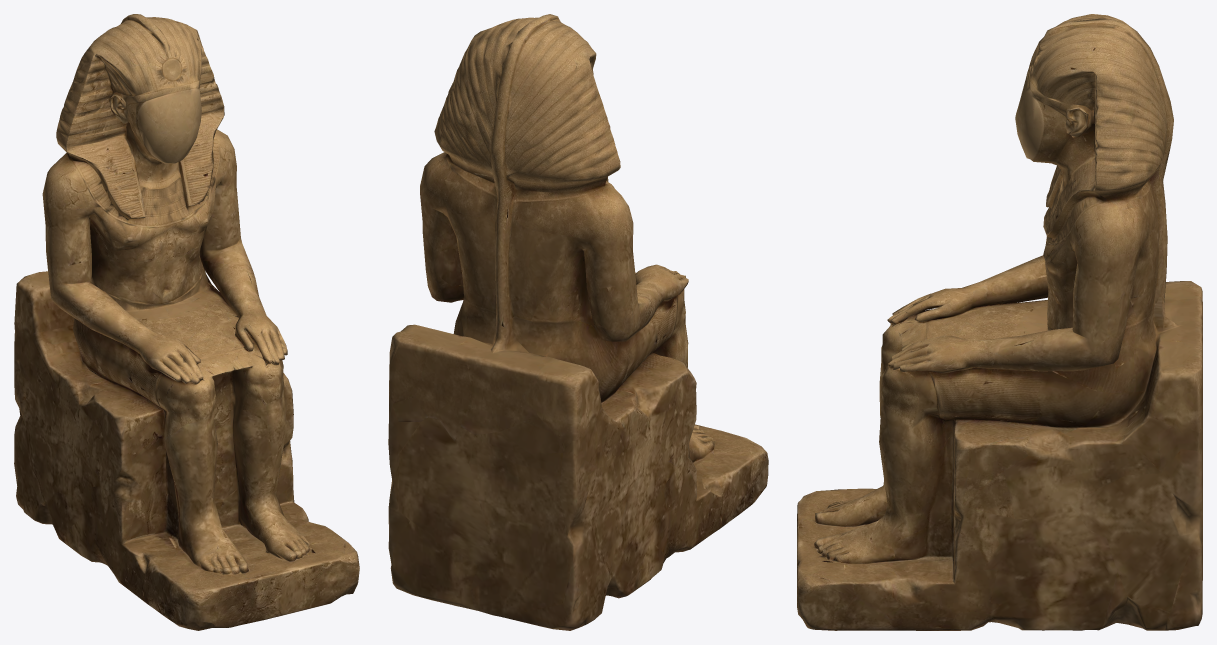
Rendered from colosse.glb.
3 renders of one model, left to right at view 1: azimuth 30°, elevation 25°; view 2: azimuth 150°, elevation 25°; view 3: azimuth 270°, elevation 25°, orthographic. The views are drawn at different scales.
Size of the model in its own units: 0.7427 by 1.9 by 1.24.
1 material, 1 textured.
